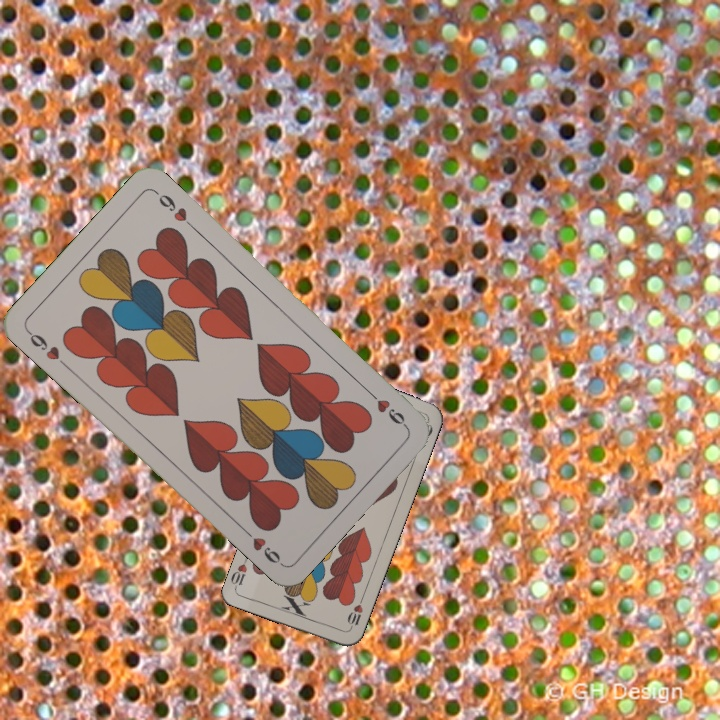H10: (343, 594, 366, 633)
H9: (362, 385, 410, 430), (23, 326, 70, 371)
